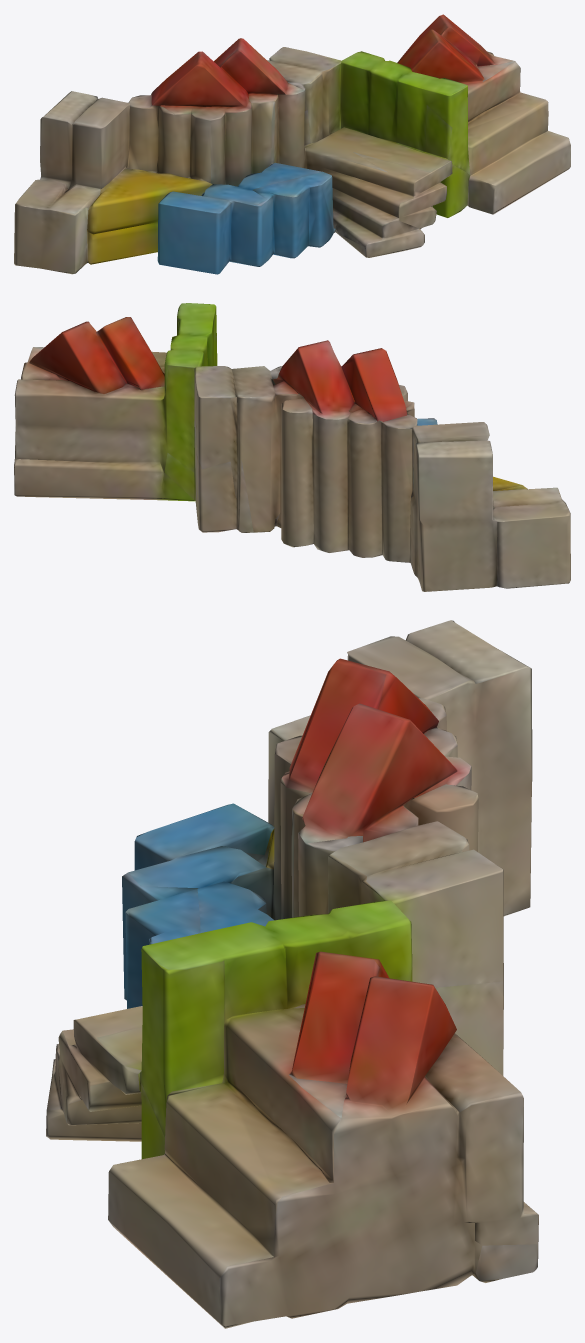
The model's file is gso_50_blocks.glb.
The picture shows the model from 3 angles, top to bottom: view 1: azimuth 30°, elevation 25°; view 2: azimuth 150°, elevation 25°; view 3: azimuth 270°, elevation 25°; orthographic projection. The views are drawn at different scales.
Parts seen in each view (by area): view 1: z-up-to-y-up; view 2: z-up-to-y-up; view 3: z-up-to-y-up.
Boxes of the visible parts, <box> form: z-up-to-y-up: <box>14,14,570,274</box>; z-up-to-y-up: <box>14,303,570,591</box>; z-up-to-y-up: <box>46,620,538,1328</box>.
Bounding box in the file's own units: 0.3556 × 0.1099 × 0.146.
1 material, 1 textured.
